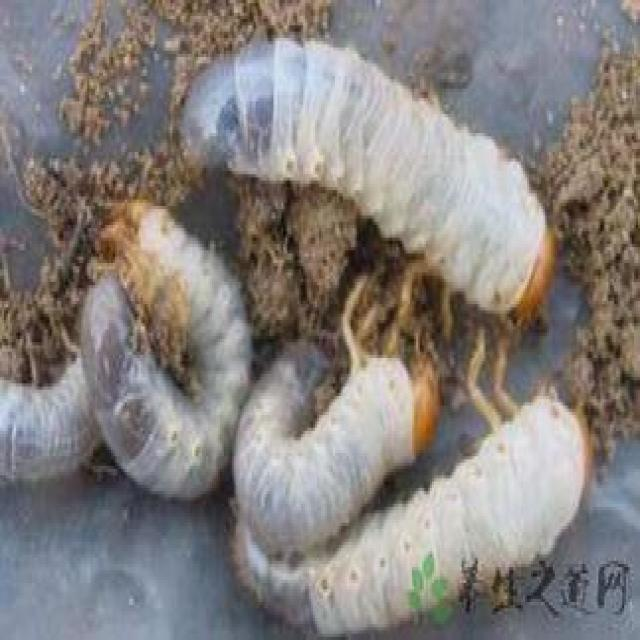Grub-Adult-: (159, 25, 592, 328), (71, 174, 256, 519), (225, 311, 444, 548)
